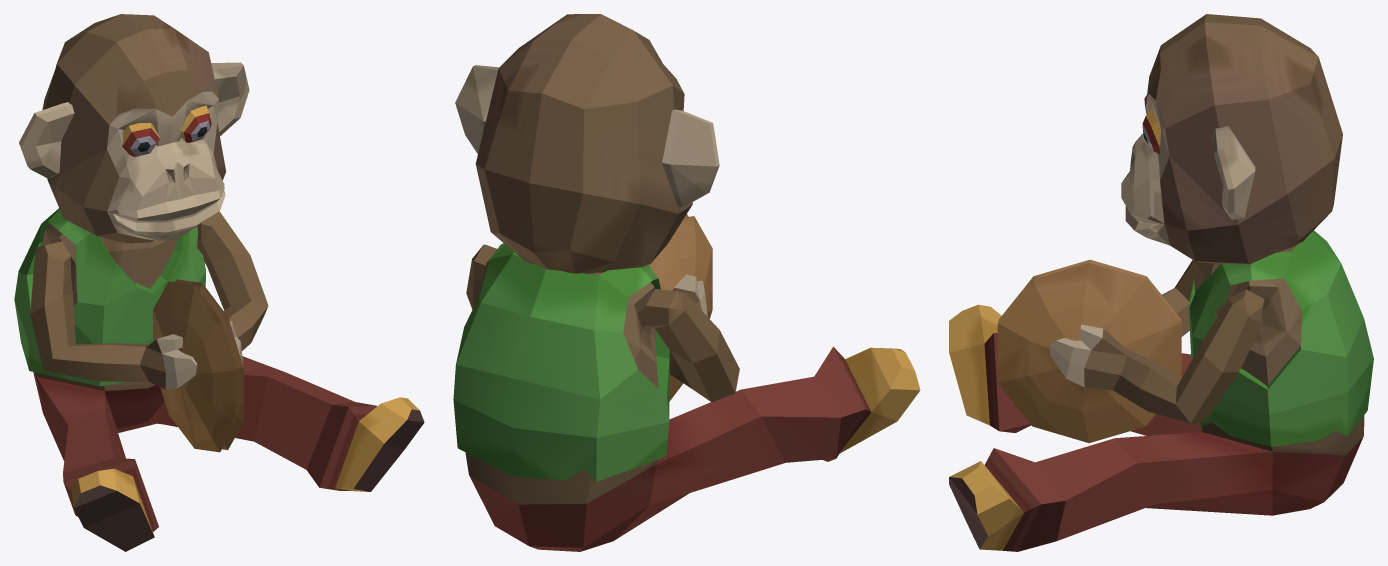
File: SM_Prop_Monkey_01.glb
3 renders of one model, left to right at view 1: azimuth 30°, elevation 25°; view 2: azimuth 150°, elevation 25°; view 3: azimuth 270°, elevation 25°, orthographic. The views are drawn at different scales.
Visible parts, largest first — view 1: SM_Prop_Monkey_01; view 2: SM_Prop_Monkey_01; view 3: SM_Prop_Monkey_01.
Part boxes in pixels (x1,y1,x2,y2): SM_Prop_Monkey_01: [14, 14, 424, 551]; SM_Prop_Monkey_01: [453, 14, 920, 551]; SM_Prop_Monkey_01: [949, 14, 1373, 551].
Bounding box in the file's own units: 55.06 × 64.03 × 52.34.
1 material, 1 textured.
